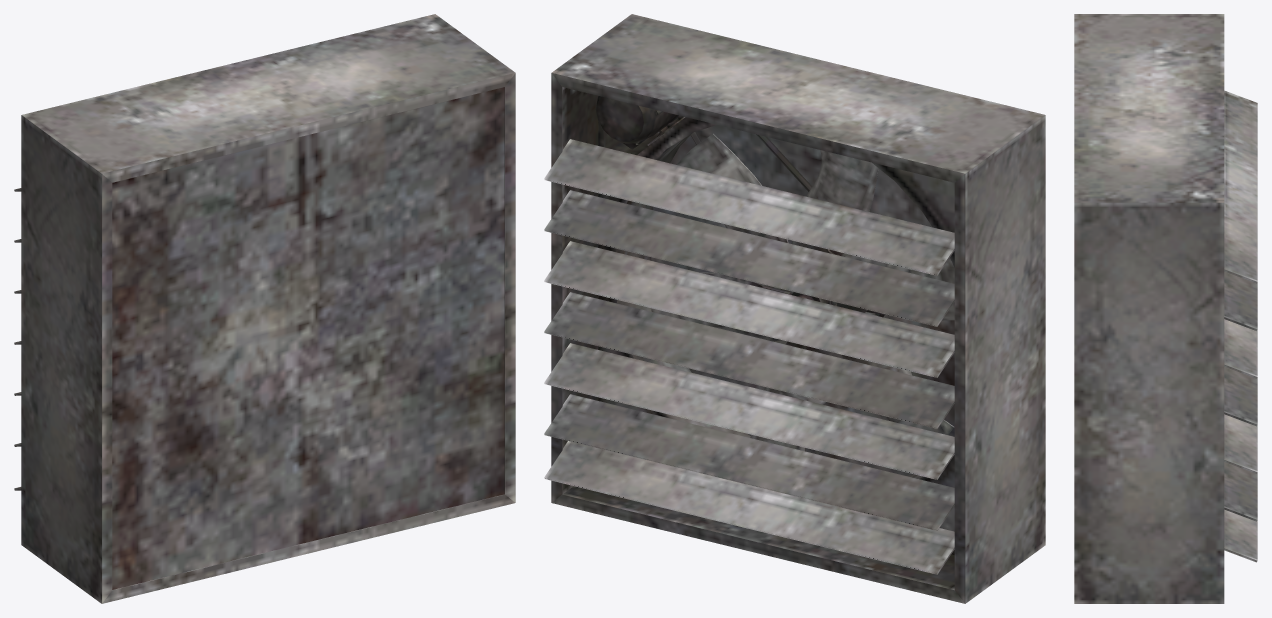
Rendered from sm22_026_exhaustfan01a.fbx.
3 renders of one model, left to right at view 1: azimuth 30°, elevation 25°; view 2: azimuth 150°, elevation 25°; view 3: azimuth 270°, elevation 25°, orthographic. The views are drawn at different scales.
Visible parts, largest first — view 1: LOD_1_Group_1_Sub_1__sm22_026_ExhaustFan01A_A_Mat, LOD_1_Group_2_Sub_1__sm22_026_ExhaustFan01A_A_Mat; view 2: LOD_1_Group_0_Sub_1__sm22_026_ExhaustFan01A_A_Mat, LOD_1_Group_2_Sub_1__sm22_026_ExhaustFan01A_A_Mat, LOD_1_Group_3_Sub_1__sm22_026_ExhaustFan01A_A_Mat, LOD_1_Group_1_Sub_1__sm22_026_ExhaustFan01A_A_Mat, LOD_1_Group_5_Sub_1__sm22_026_ExhaustFan01A_A_Mat, LOD_1_Group_4_Sub_1__sm22_026_ExhaustFan01A_A_Mat; view 3: LOD_1_Group_2_Sub_1__sm22_026_ExhaustFan01A_A_Mat, LOD_1_Group_0_Sub_1__sm22_026_ExhaustFan01A_A_Mat.
Boxes of the visible parts, left/top/right/bottom form: LOD_1_Group_1_Sub_1__sm22_026_ExhaustFan01A_A_Mat: left=112, top=87, right=504, bottom=589; LOD_1_Group_2_Sub_1__sm22_026_ExhaustFan01A_A_Mat: left=21, top=14, right=515, bottom=603; LOD_1_Group_0_Sub_1__sm22_026_ExhaustFan01A_A_Mat: left=544, top=139, right=954, bottom=574; LOD_1_Group_2_Sub_1__sm22_026_ExhaustFan01A_A_Mat: left=551, top=14, right=1045, bottom=603; LOD_1_Group_3_Sub_1__sm22_026_ExhaustFan01A_A_Mat: left=651, top=133, right=954, bottom=451; LOD_1_Group_1_Sub_1__sm22_026_ExhaustFan01A_A_Mat: left=651, top=125, right=954, bottom=475; LOD_1_Group_5_Sub_1__sm22_026_ExhaustFan01A_A_Mat: left=595, top=96, right=685, bottom=149; LOD_1_Group_4_Sub_1__sm22_026_ExhaustFan01A_A_Mat: left=690, top=132, right=884, bottom=317; LOD_1_Group_2_Sub_1__sm22_026_ExhaustFan01A_A_Mat: left=1074, top=14, right=1224, bottom=603; LOD_1_Group_0_Sub_1__sm22_026_ExhaustFan01A_A_Mat: left=1224, top=90, right=1257, bottom=562.
Size of the model in its own units: 1.46 by 1.45 by 0.6008.
